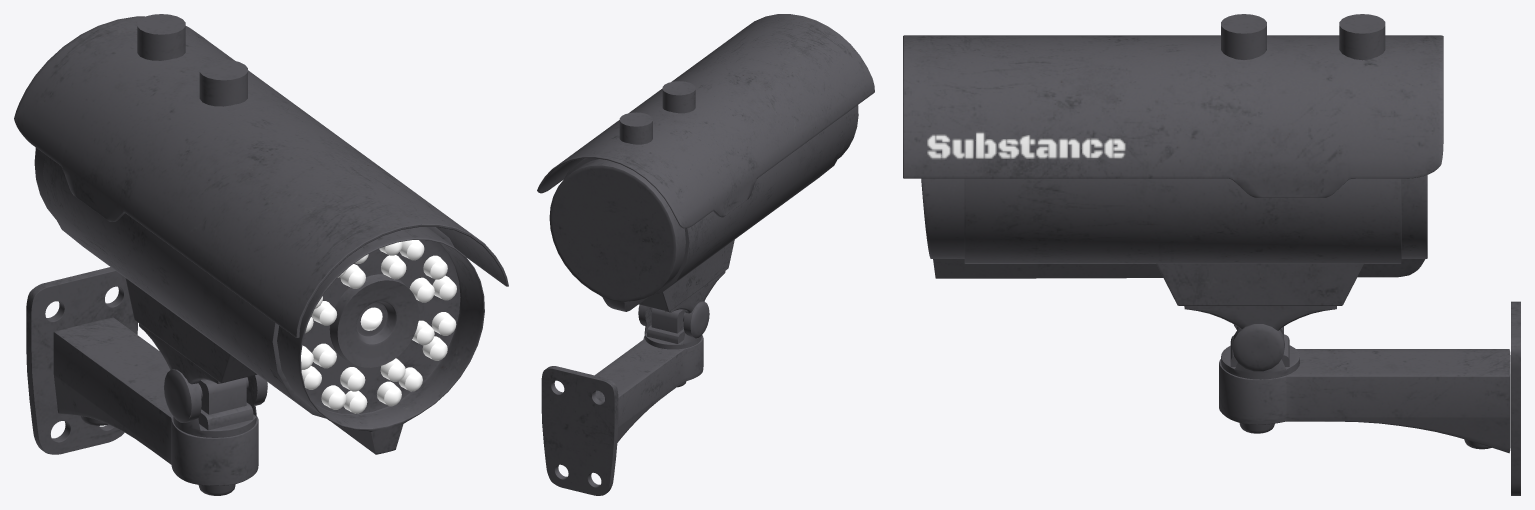
The model's file is Scamera.gltf.
The picture shows the model from 3 angles, left to right: view 1: azimuth 30°, elevation 25°; view 2: azimuth 150°, elevation 25°; view 3: azimuth 270°, elevation 25°; orthographic projection. The views are drawn at different scales.
Size of the model in its own units: 0.7952 by 1.7 by 2.08.
1 material, 1 textured.
